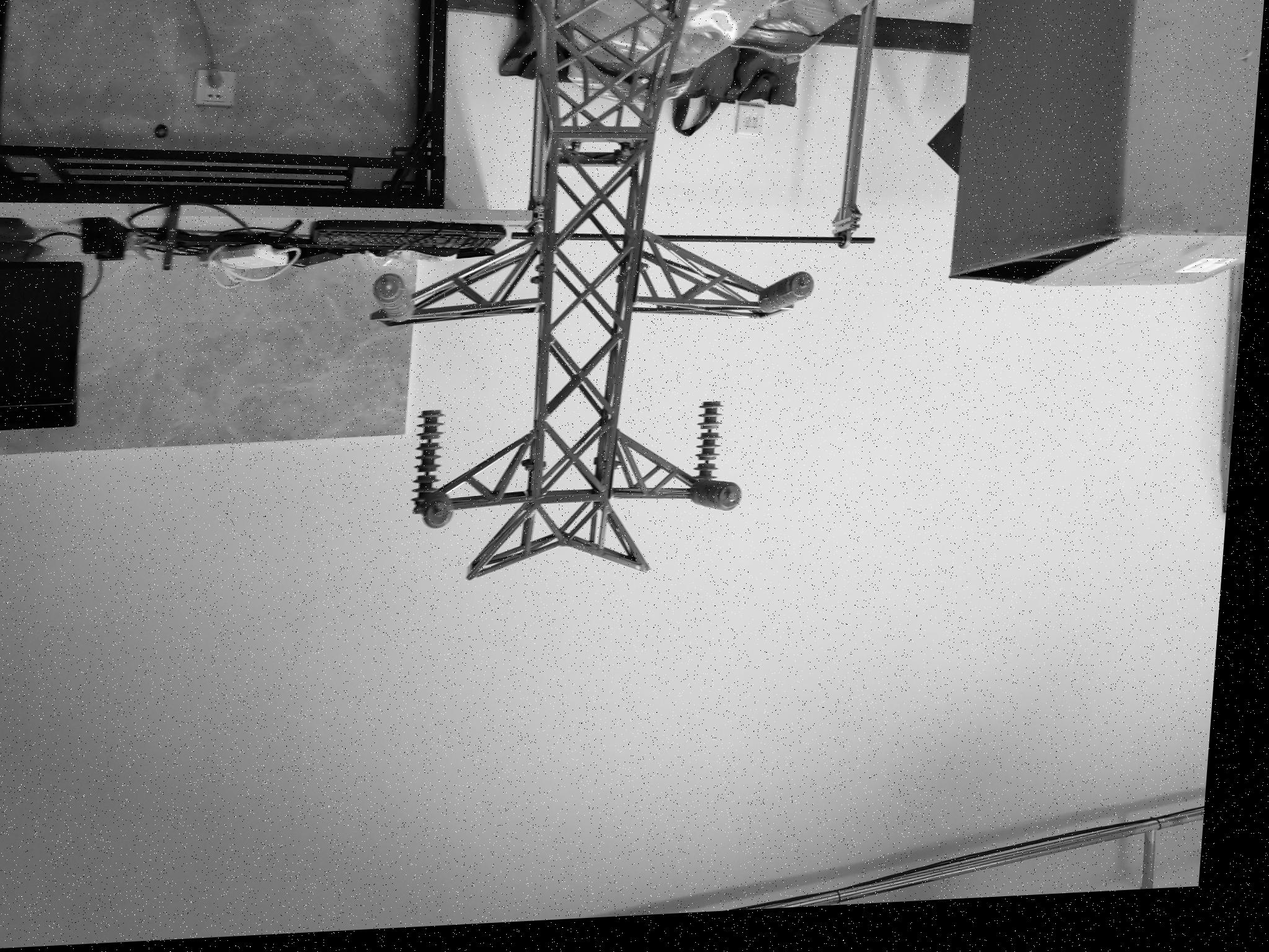tower: (357, 0, 816, 588)
